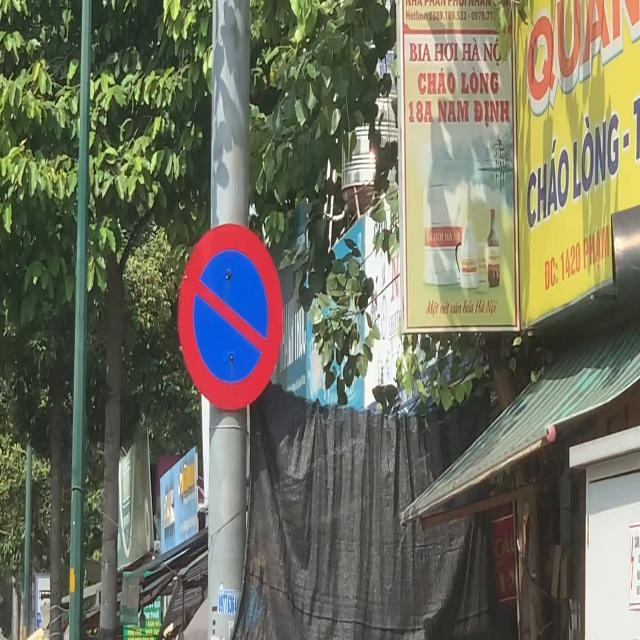bien_cam: (177, 221, 284, 414)
